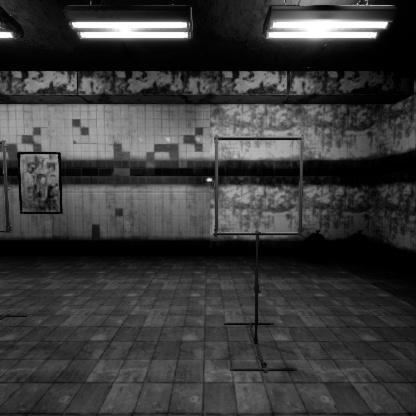gate: (214, 179, 312, 280)
